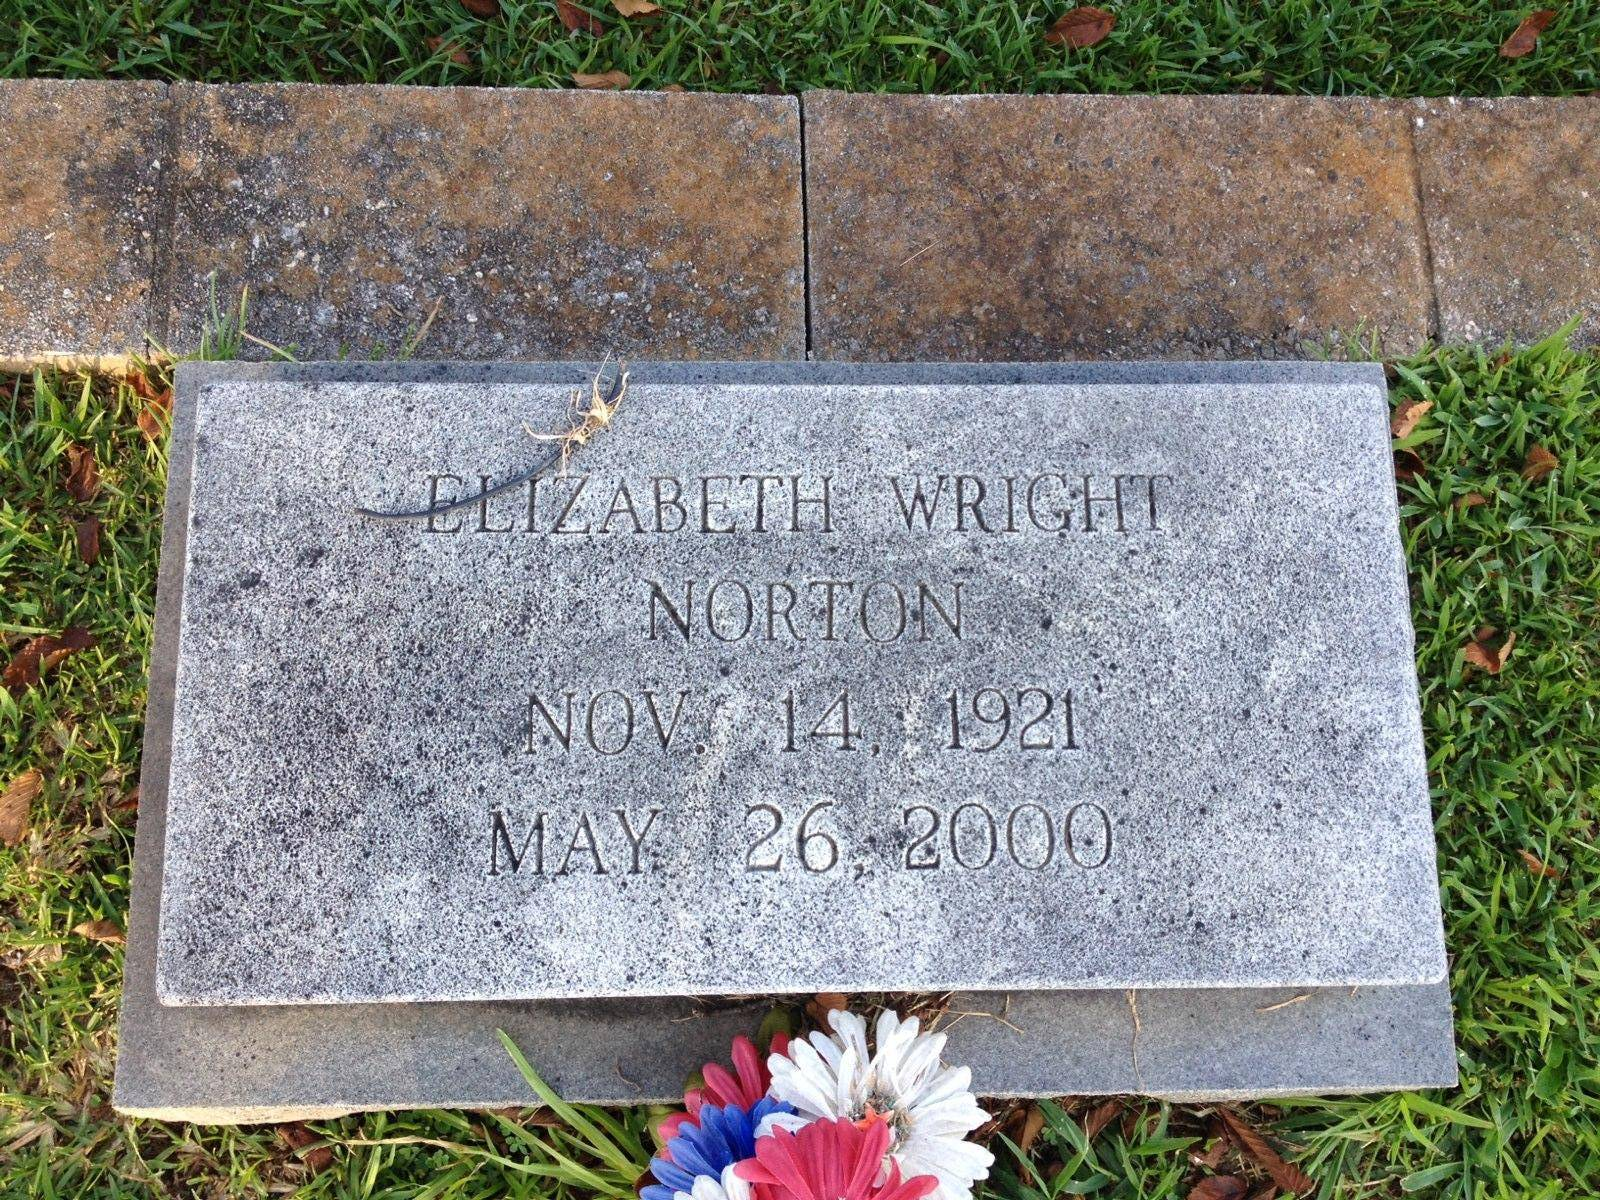flat: (78, 326, 1474, 1142)
